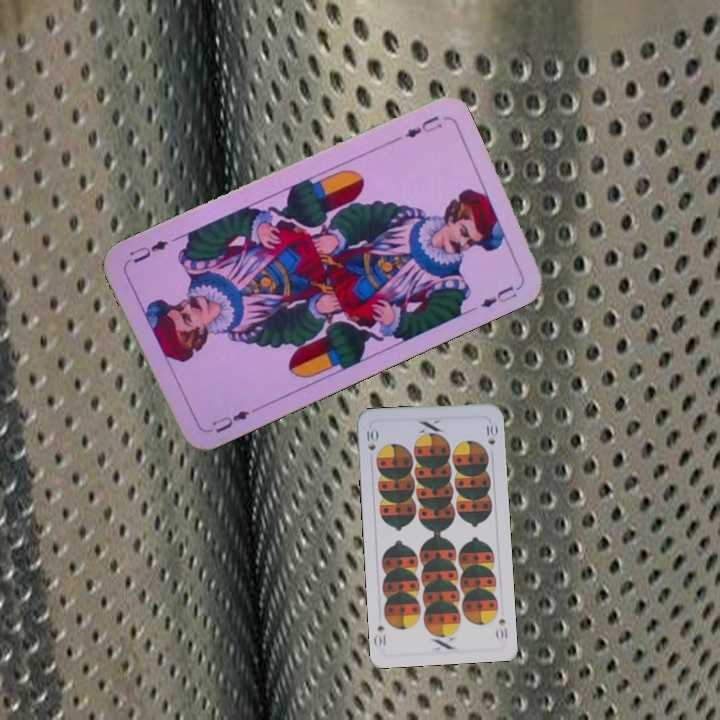EU: (389, 111, 445, 145), (208, 404, 259, 436)
S10: (492, 614, 510, 643), (363, 424, 380, 453)
